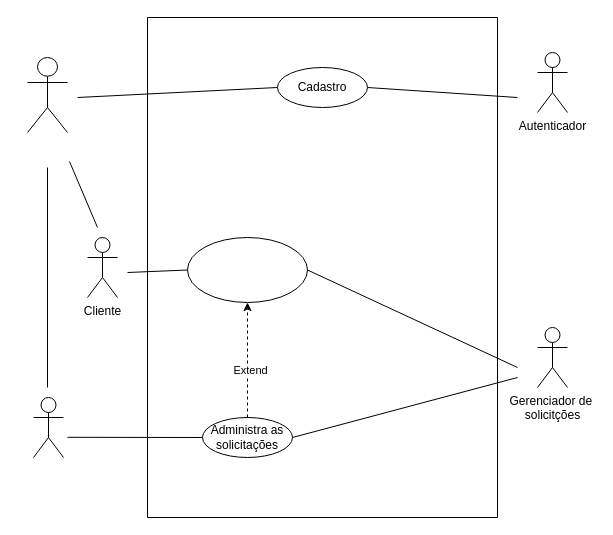
The diagram is 613 pixels wide and 535 high, and some of its shapes have lost their labels. Here are the shapes that lost their labels. From the top down, the centre of each, then its label:
At [47,94]: "Usuáiro".
At [247,269]: "Solicita uma mudança em uma conta ou produto".
At [48,427]: "Funcionário".
